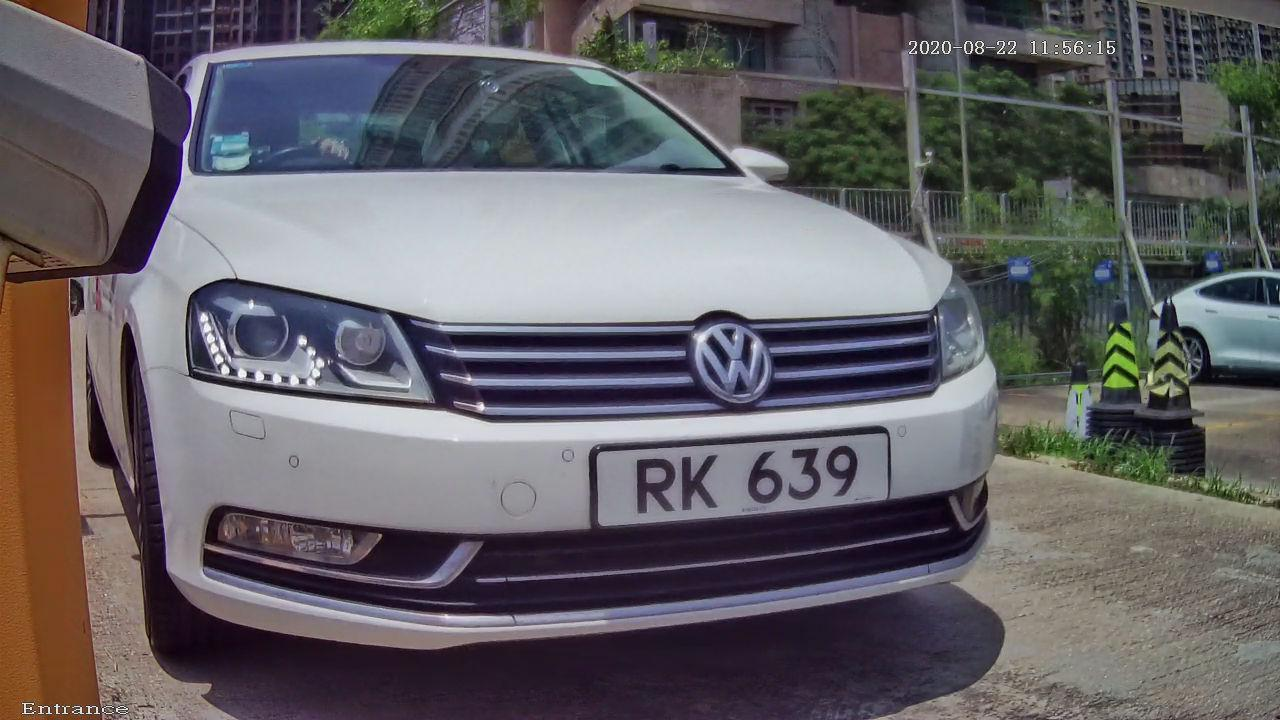License Plate: (572, 415, 903, 531)
